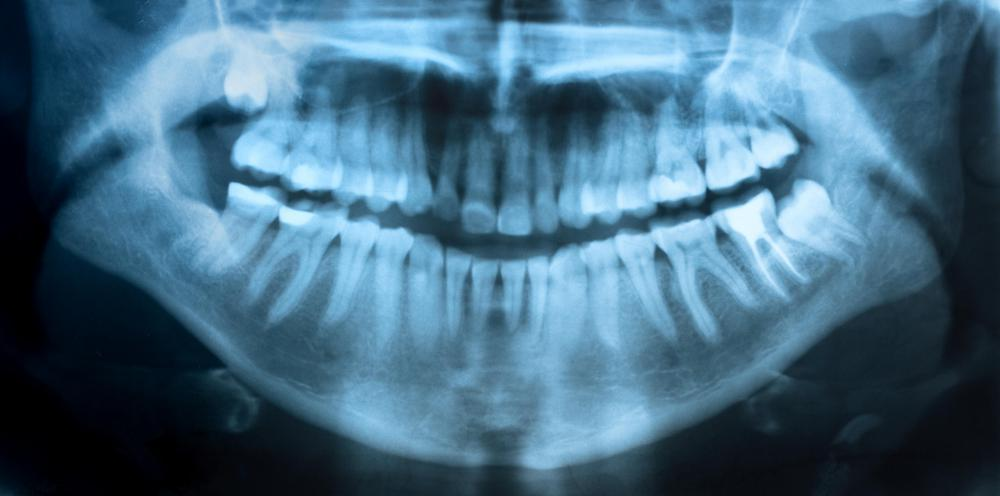canine: (557, 106, 598, 233), (551, 237, 594, 354), (400, 97, 438, 221), (412, 225, 444, 343)
incisor: (463, 111, 502, 235), (497, 111, 533, 243), (432, 109, 468, 223), (530, 115, 559, 239), (441, 239, 477, 337), (523, 246, 554, 341), (471, 247, 501, 345), (500, 251, 527, 341)
molar: (236, 204, 348, 328), (653, 216, 754, 349), (706, 186, 807, 303), (767, 174, 873, 271), (205, 174, 287, 285), (276, 87, 344, 195), (650, 82, 707, 205), (700, 90, 762, 193), (227, 99, 296, 186), (745, 107, 804, 173), (220, 54, 274, 117)
premolar: (614, 219, 678, 351), (579, 234, 631, 352), (373, 219, 410, 354), (624, 97, 662, 225), (333, 75, 370, 206), (366, 89, 405, 213), (336, 203, 374, 330), (591, 108, 629, 225)
